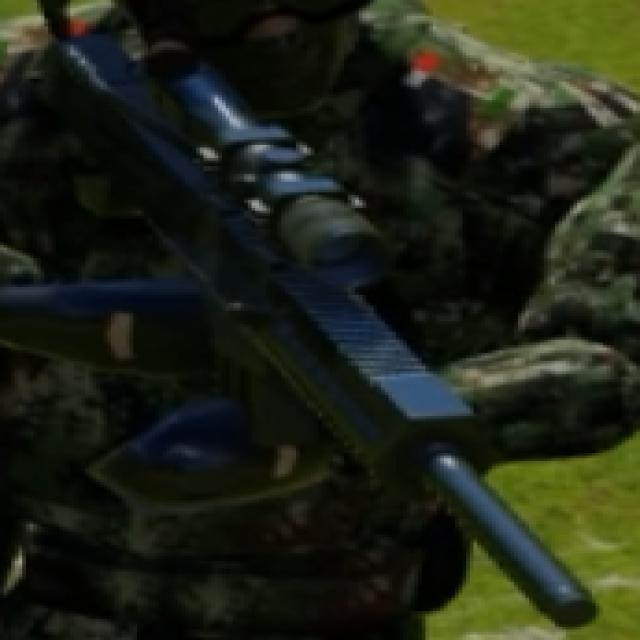RifleTel: (33, 28, 615, 634)
